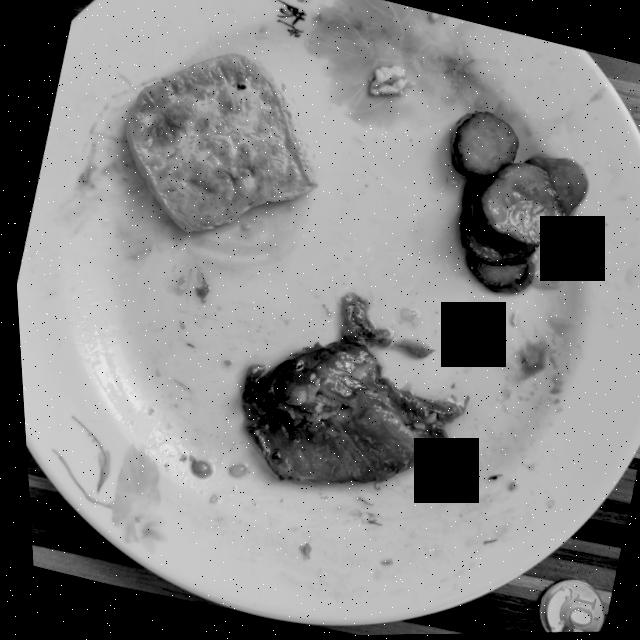Kabayaki sea bream fillet: (235, 294, 460, 485)
coin: (530, 581, 595, 634)
cucumber: (448, 113, 585, 295)
